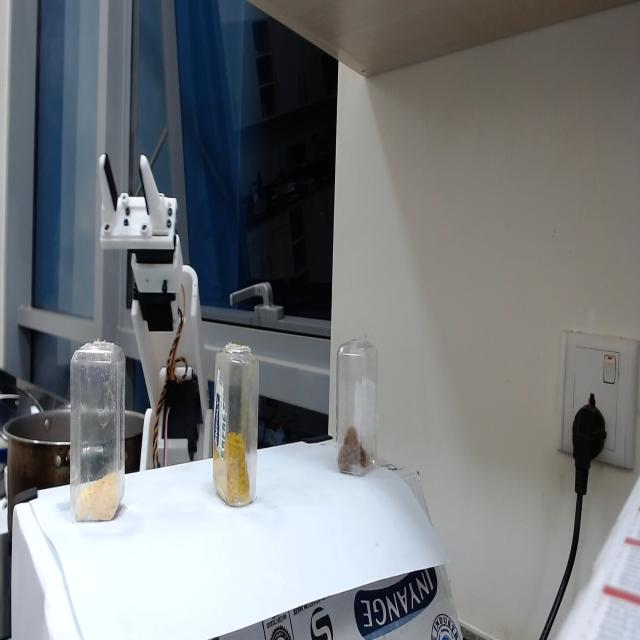cooking_pot: (4, 406, 70, 533)
curry_powder: (212, 432, 251, 506)
garlic_powder: (79, 471, 124, 521)
maggie_open: (337, 424, 372, 476)
